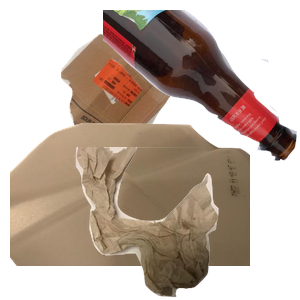cardboard: (58, 31, 222, 188)
glass: (103, 10, 300, 163)
plastic: (10, 120, 250, 300)
trash: (73, 147, 300, 300)
